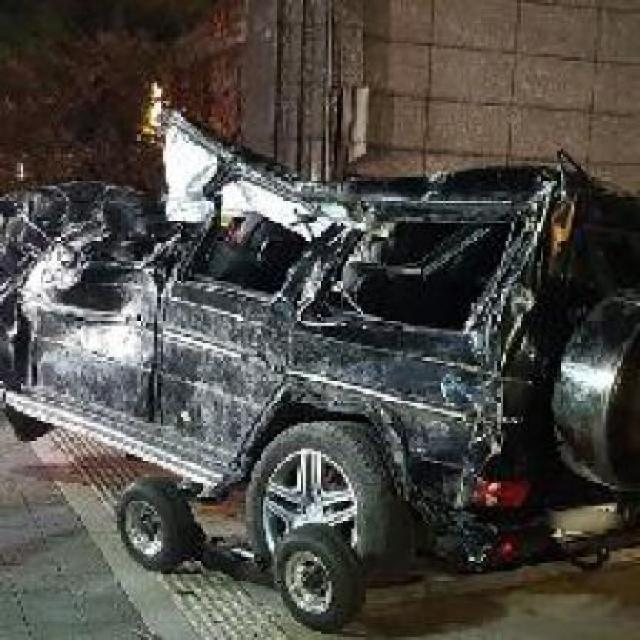damaged-tail-light: (462, 380, 535, 510)
